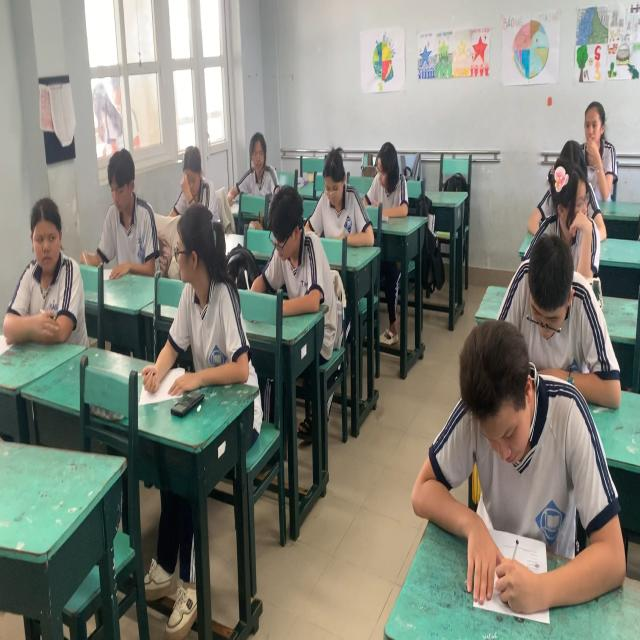cheating: (166, 190, 250, 393), (16, 196, 86, 354), (556, 176, 592, 234)
not_cheating: (411, 338, 584, 610), (494, 237, 584, 352), (96, 147, 148, 279), (271, 190, 327, 296), (314, 144, 362, 255), (170, 130, 216, 217), (362, 137, 403, 227), (234, 116, 274, 206), (586, 103, 612, 165)
